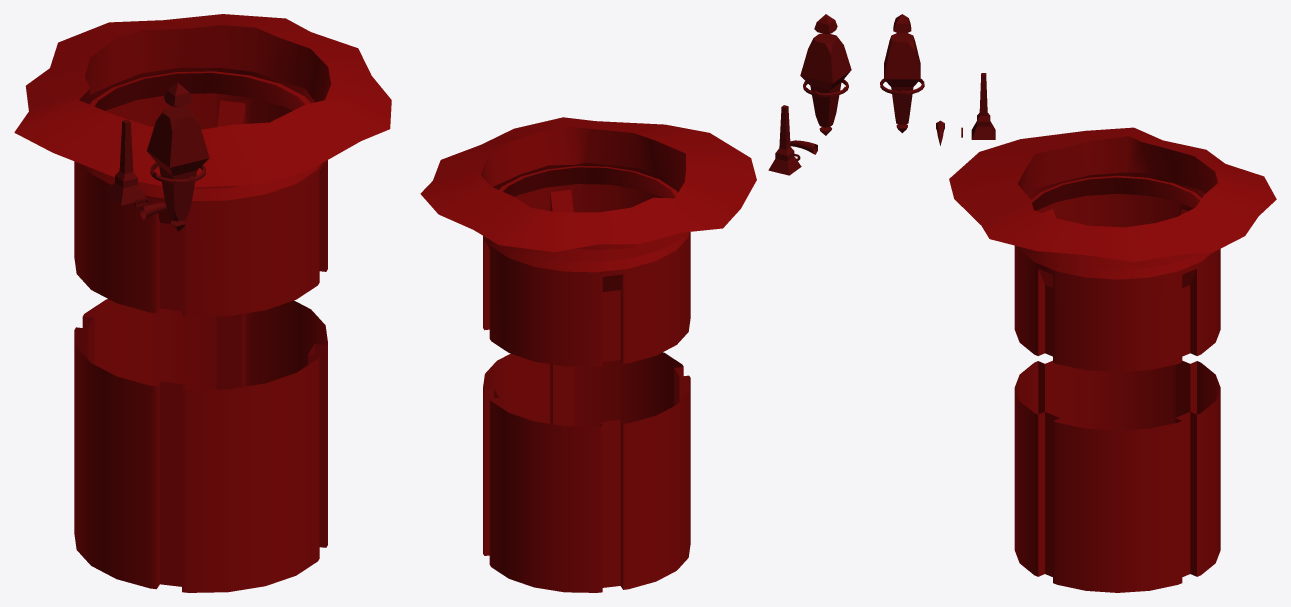
Rendered from MESH_HellMouth_Pack.fbx.
3 views of the same model, side by side, from view 1: azimuth 30°, elevation 25°; view 2: azimuth 150°, elevation 25°; view 3: azimuth 270°, elevation 25° (orthographic). The views are drawn at different scales.
Parts seen in each view (by area): view 1: Hellmouth_Entrance, Hellmouth_Hole, Obelisk_Middle, HellDeco_Spire; view 2: Hellmouth_Entrance, Hellmouth_Hole, Obelisk_Middle, HellDeco_Spire; view 3: Hellmouth_Entrance, Hellmouth_Hole, Obelisk_Middle, HellDeco_Spire.
Boxes of the visible parts, x1,y1,x2,y2 form: Hellmouth_Entrance: (14, 14, 391, 316); Hellmouth_Hole: (74, 299, 327, 592); Obelisk_Middle: (147, 106, 209, 221); HellDeco_Spire: (106, 119, 145, 205); Hellmouth_Entrance: (420, 117, 756, 366); Hellmouth_Hole: (483, 352, 690, 592); Obelisk_Middle: (800, 33, 851, 127); HellDeco_Spire: (768, 105, 801, 175); Hellmouth_Entrance: (949, 127, 1276, 372); Hellmouth_Hole: (1014, 360, 1220, 592); Obelisk_Middle: (884, 33, 920, 124); HellDeco_Spire: (971, 73, 995, 139).
Bounding box in the file's own units: 14.4 × 23.36 × 17.7.
